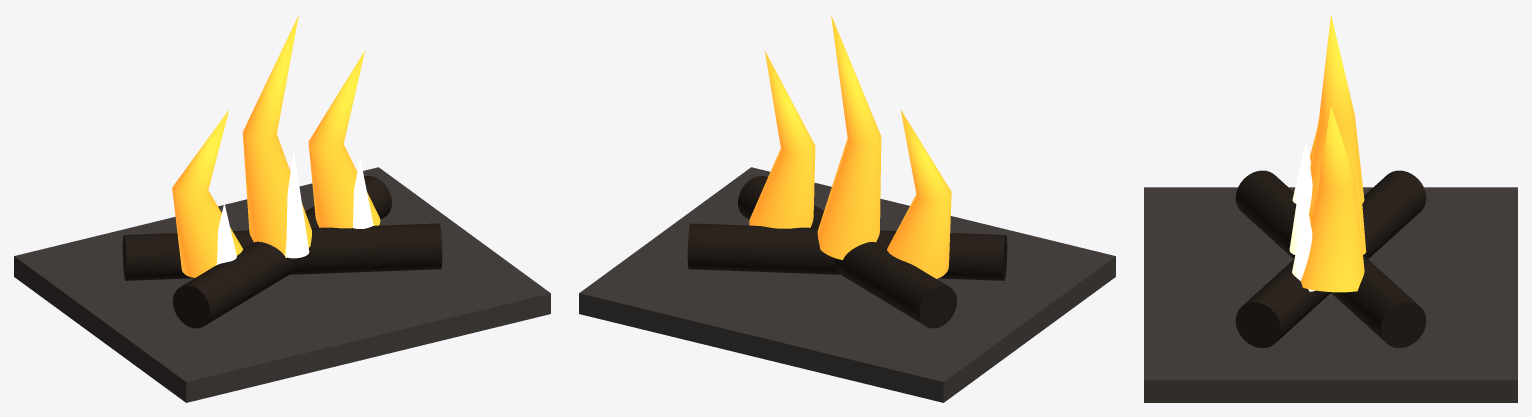
The model's file is fire_tongues.glb.
3 renders of one model, left to right at view 1: azimuth 30°, elevation 25°; view 2: azimuth 150°, elevation 25°; view 3: azimuth 270°, elevation 25°, orthographic. The views are drawn at different scales.
Visible parts, largest first — view 1: hearth, tongue, char, core; view 2: hearth, tongue, char; view 3: hearth, char, tongue, core.
Boxes of the visible parts, x1,y1,x2,y2 form: hearth: (14,167,550,402); tongue: (172,15,380,277); char: (122,176,442,328); core: (216,151,373,264); hearth: (579,167,1115,402); tongue: (749,15,951,278); char: (687,176,1007,328); hearth: (1144,187,1517,402); char: (1235,170,1426,348); tongue: (1301,15,1366,292); core: (1289,140,1315,291).
Size of the model in its own units: 0.22 by 0.16 by 0.18.
